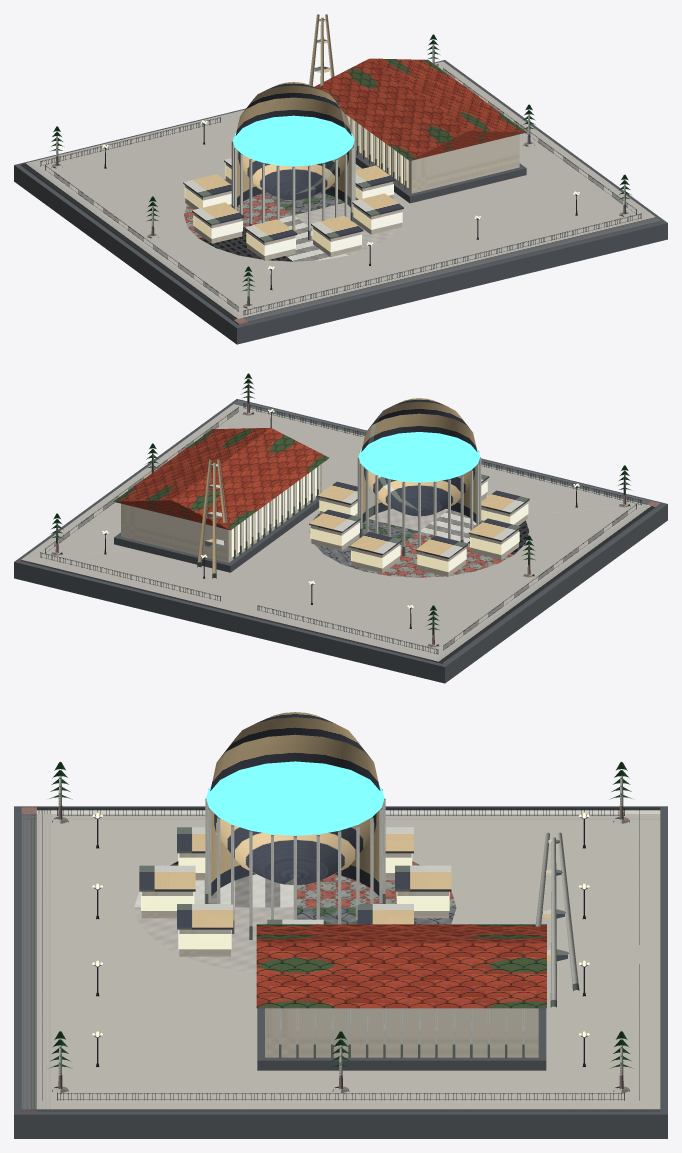
Rendered from ultra_lm_25_dai_hoc_da_lat.glb.
The picture shows the model from 3 angles, top to bottom: view 1: azimuth 30°, elevation 25°; view 2: azimuth 150°, elevation 25°; view 3: azimuth 270°, elevation 25°; orthographic projection. The views are drawn at different scales.
Visible parts, largest first — view 1: DalatUni_Bagua_Plaza_GraniteSteps_And_WormBrick, DalatUni_SplitGranite_Plinth_And_Copernicus_Skirt, TRIGA_MarkII_Cylindrical_Reactor_And_BriseSoleil, DalatUni_Marseille_Terracotta_HipRoofs, MinhThanh_LectureHall_And_Bagua_Laboratory_Wings, TRIGA_Reactor_Cherenkov_Blue_Glow, Laboratory_And_Library_Glass_Blend085, DalatUni_WroughtIron_Fence_And_5Globe_Streetlamps, DalatUni_PineHill_And_CherryBlossom_Campus; view 2: DalatUni_Bagua_Plaza_GraniteSteps_And_WormBrick, DalatUni_SplitGranite_Plinth_And_Copernicus_Skirt, TRIGA_MarkII_Cylindrical_Reactor_And_BriseSoleil, DalatUni_Marseille_Terracotta_HipRoofs, MinhThanh_LectureHall_And_Bagua_Laboratory_Wings, TRIGA_Reactor_Cherenkov_Blue_Glow, Laboratory_And_Library_Glass_Blend085, DalatUni_WroughtIron_Fence_And_5Globe_Streetlamps, DalatUni_PineHill_And_CherryBlossom_Campus; view 3: DalatUni_Bagua_Plaza_GraniteSteps_And_WormBrick, TRIGA_MarkII_Cylindrical_Reactor_And_BriseSoleil, DalatUni_SplitGranite_Plinth_And_Copernicus_Skirt, DalatUni_Marseille_Terracotta_HipRoofs, MinhThanh_LectureHall_And_Bagua_Laboratory_Wings, TRIGA_Reactor_Cherenkov_Blue_Glow, DalatUni_WroughtIron_Fence_And_5Globe_Streetlamps, Laboratory_And_Library_Glass_Blend085, DalatUni_PineHill_And_CherryBlossom_Campus.
Part boxes in pixels (x1=…): DalatUni_Bagua_Plaza_GraniteSteps_And_WormBrick: x1=21, y1=44, x2=660, y2=324; DalatUni_SplitGranite_Plinth_And_Copernicus_Skirt: x1=14, y1=60, x2=667, y2=344; TRIGA_MarkII_Cylindrical_Reactor_And_BriseSoleil: x1=183, y1=14, x2=406, y2=242; DalatUni_Marseille_Terracotta_HipRoofs: x1=314, y1=58, x2=526, y2=160; MinhThanh_LectureHall_And_Bagua_Laboratory_Wings: x1=185, y1=117, x2=519, y2=260; TRIGA_Reactor_Cherenkov_Blue_Glow: x1=232, y1=115, x2=354, y2=166; Laboratory_And_Library_Glass_Blend085: x1=184, y1=115, x2=408, y2=255; DalatUni_WroughtIron_Fence_And_5Globe_Streetlamps: x1=40, y1=64, x2=641, y2=315; DalatUni_PineHill_And_CherryBlossom_Campus: x1=50, y1=34, x2=631, y2=291; DalatUni_Bagua_Plaza_GraniteSteps_And_WormBrick: x1=21, y1=383, x2=660, y2=663; DalatUni_SplitGranite_Plinth_And_Copernicus_Skirt: x1=14, y1=399, x2=667, y2=683; TRIGA_MarkII_Cylindrical_Reactor_And_BriseSoleil: x1=197, y1=398, x2=529, y2=578; DalatUni_Marseille_Terracotta_HipRoofs: x1=113, y1=427, x2=329, y2=530; MinhThanh_LectureHall_And_Bagua_Laboratory_Wings: x1=121, y1=464, x2=527, y2=576; TRIGA_Reactor_Cherenkov_Blue_Glow: x1=358, y1=432, x2=480, y2=482; Laboratory_And_Library_Glass_Blend085: x1=231, y1=466, x2=528, y2=572; DalatUni_WroughtIron_Fence_And_5Globe_Streetlamps: x1=40, y1=403, x2=641, y2=654; DalatUni_PineHill_And_CherryBlossom_Campus: x1=51, y1=373, x2=631, y2=630; DalatUni_Bagua_Plaza_GraniteSteps_And_WormBrick: x1=21, y1=775, x2=660, y2=1111; TRIGA_MarkII_Cylindrical_Reactor_And_BriseSoleil: x1=139, y1=712, x2=579, y2=1058; DalatUni_SplitGranite_Plinth_And_Copernicus_Skirt: x1=14, y1=806, x2=667, y2=1138; DalatUni_Marseille_Terracotta_HipRoofs: x1=256, y1=924, x2=546, y2=1008; MinhThanh_LectureHall_And_Bagua_Laboratory_Wings: x1=141, y1=853, x2=538, y2=1057; TRIGA_Reactor_Cherenkov_Blue_Glow: x1=206, y1=761, x2=384, y2=835; DalatUni_WroughtIron_Fence_And_5Globe_Streetlamps: x1=42, y1=808, x2=639, y2=1100; Laboratory_And_Library_Glass_Blend085: x1=141, y1=853, x2=449, y2=949; DalatUni_PineHill_And_CherryBlossom_Campus: x1=49, y1=761, x2=632, y2=1068.
Size of the model in its own units: 96 by 31.85 by 86.
Materials: 10 (4 with a texture image).
